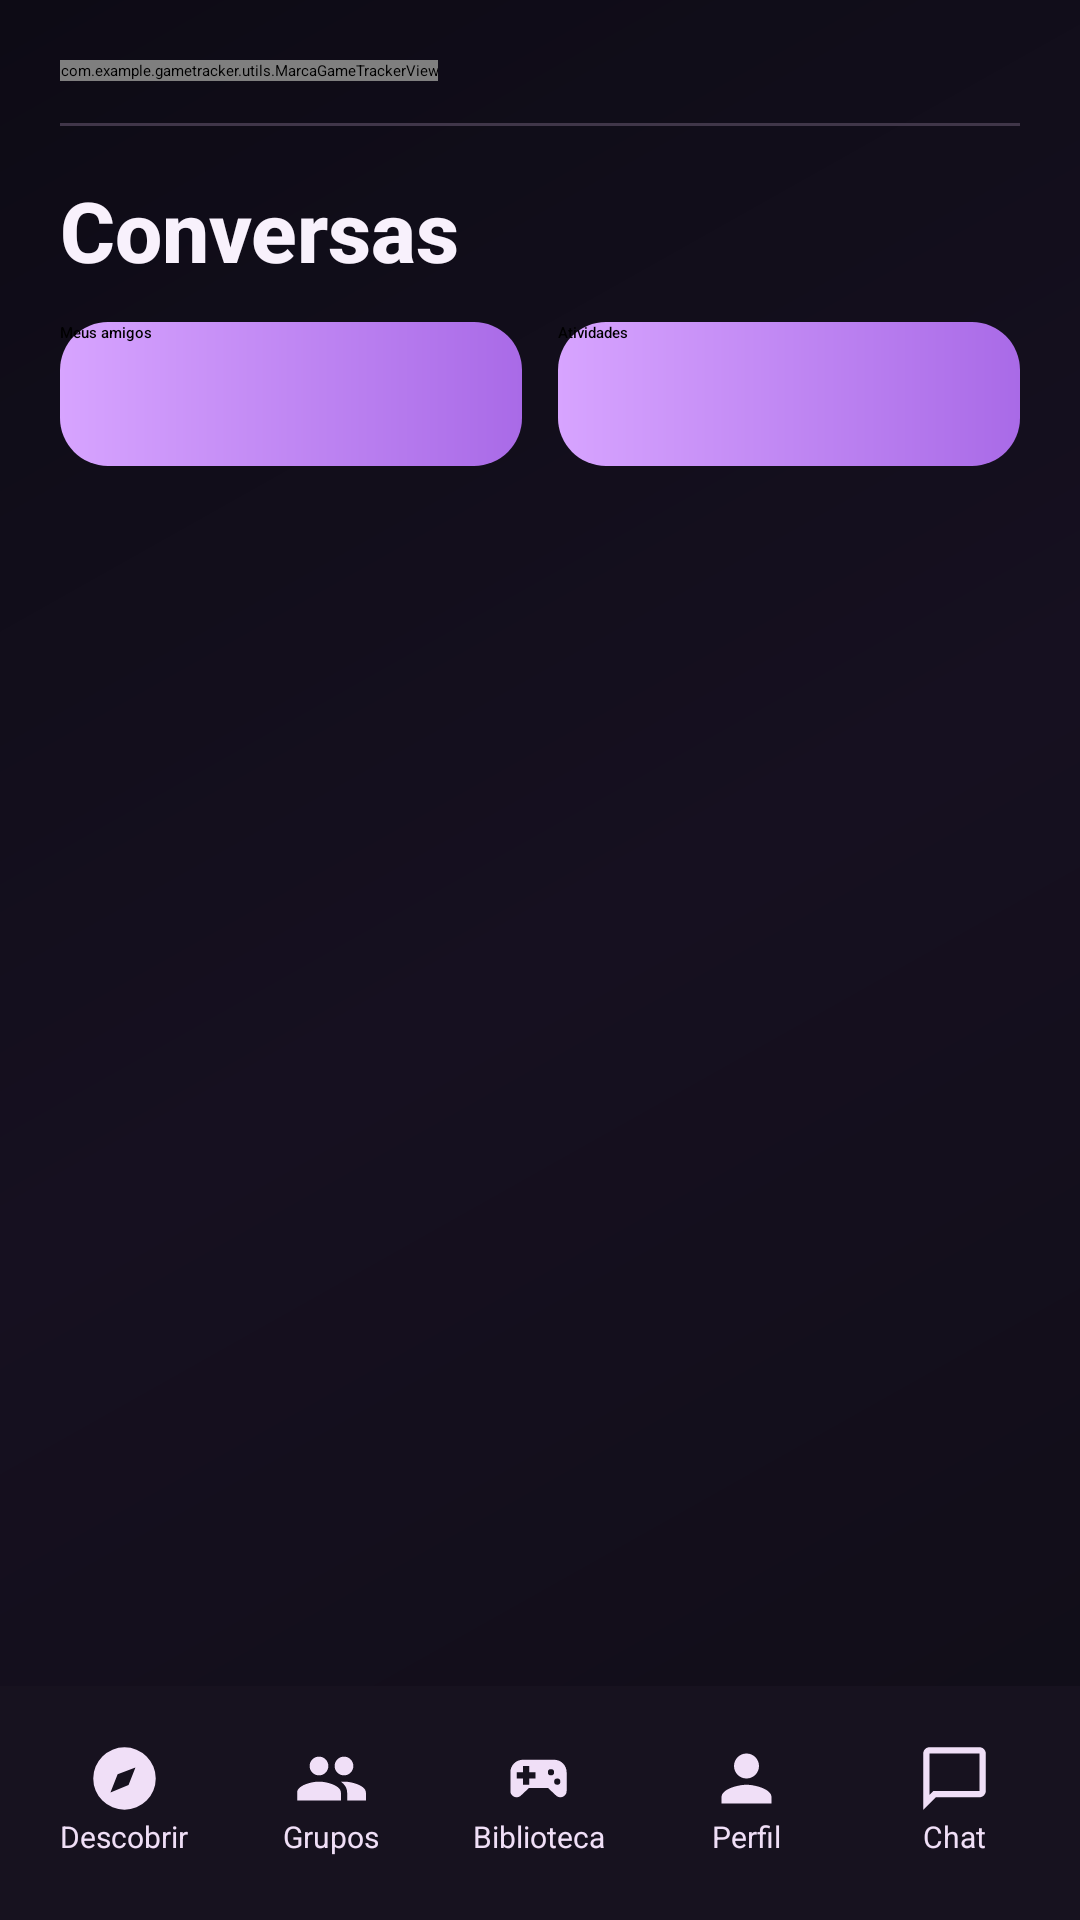

Where to tap for icons on this 1080w x 1920h app screen, as (x=x, y=y):
compass: (x=124, y=1778)
gamepad: (x=538, y=1778)
user: (x=746, y=1778)
